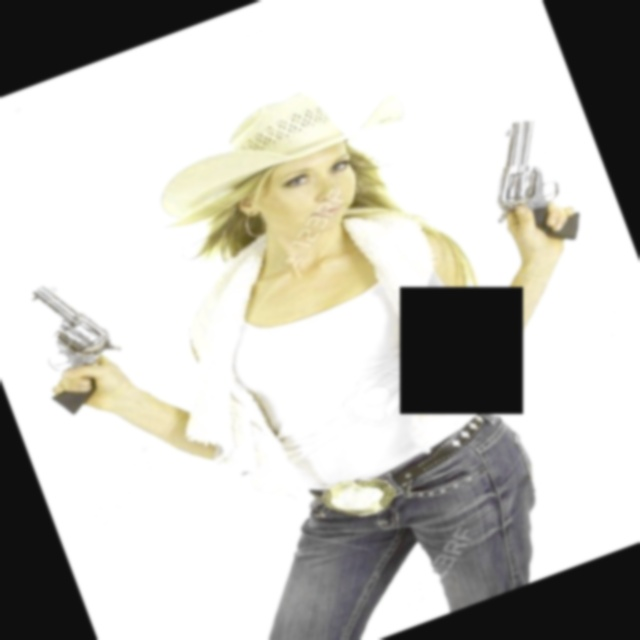gun: (0, 248, 173, 437), (459, 103, 603, 269)
